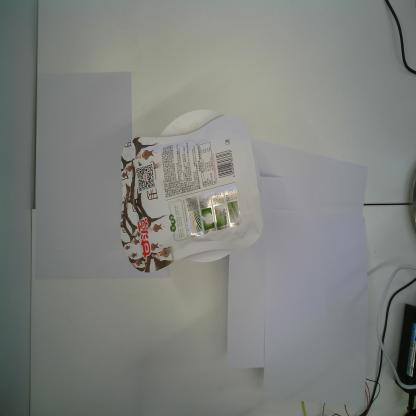Dried Fruit: (119, 114, 264, 274)
